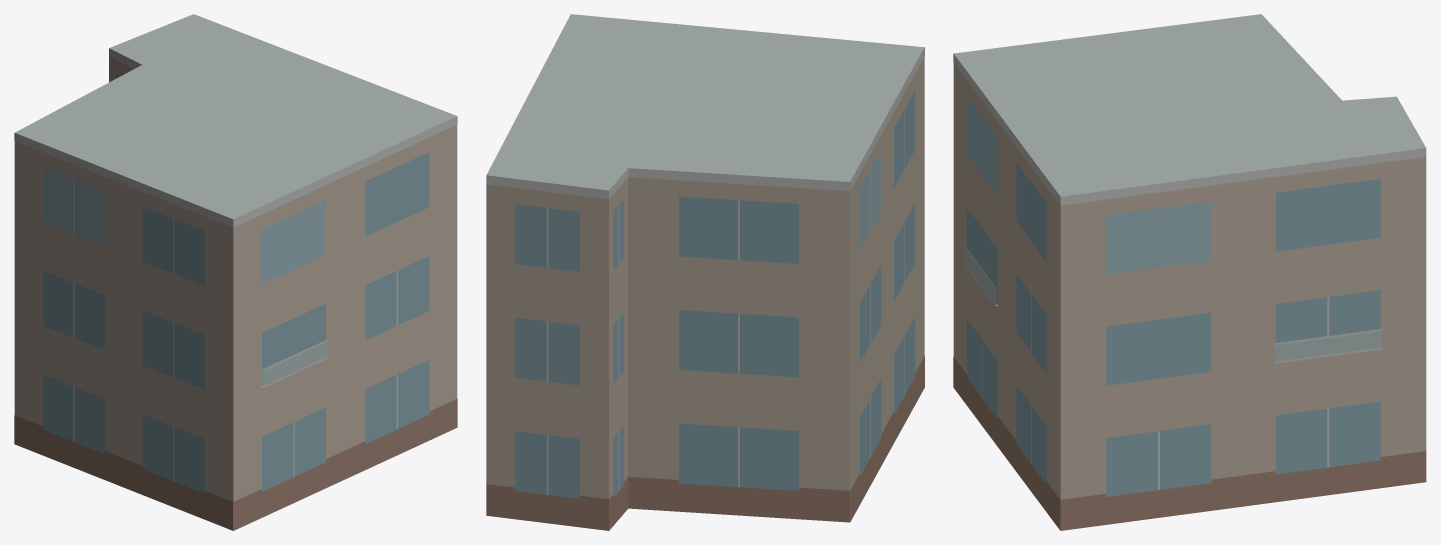
Rendered from survey-upis-32615491.glb.
3 views of the same model, side by side, from view 1: azimuth 30°, elevation 25°; view 2: azimuth 150°, elevation 25°; view 3: azimuth 270°, elevation 25° (orthographic). The views are drawn at different scales.
Visible parts, largest first — view 1: survey-upis-32615491.tmp; view 2: survey-upis-32615491.tmp; view 3: survey-upis-32615491.tmp.
Part boxes in pixels (x1=…): survey-upis-32615491.tmp: x1=14, y1=14, x2=457, y2=530; survey-upis-32615491.tmp: x1=486, y1=14, x2=924, y2=530; survey-upis-32615491.tmp: x1=953, y1=14, x2=1426, y2=530.
Bounding box in the file's own units: 10.75 × 9.15 × 11.74.
